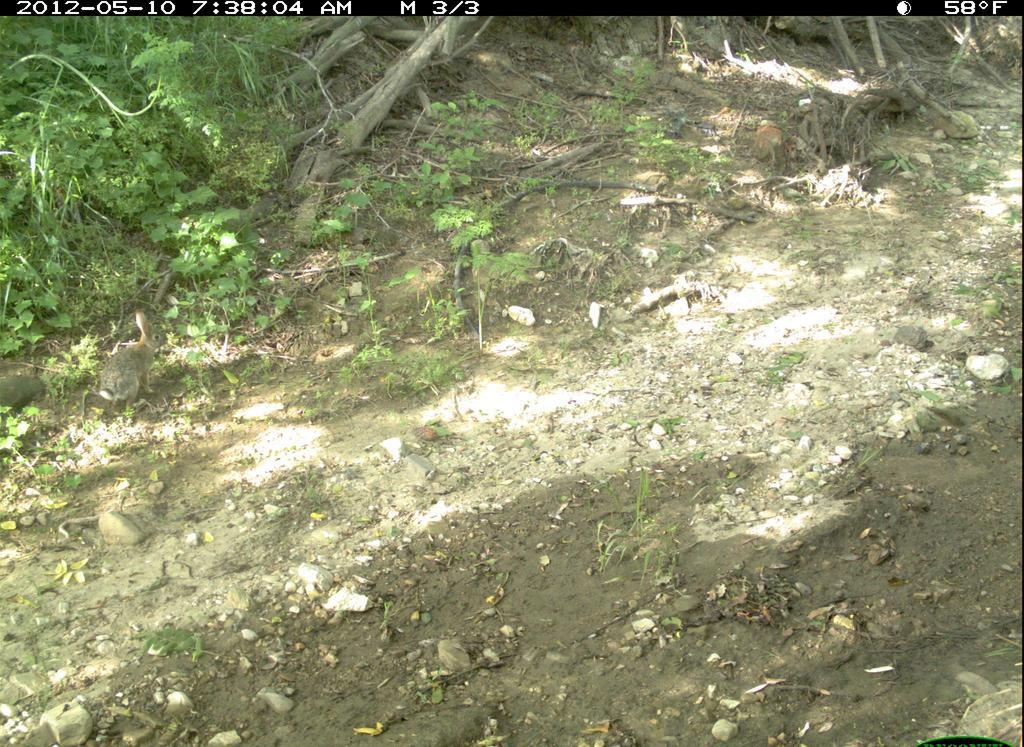rabbit: (89, 313, 177, 419)
